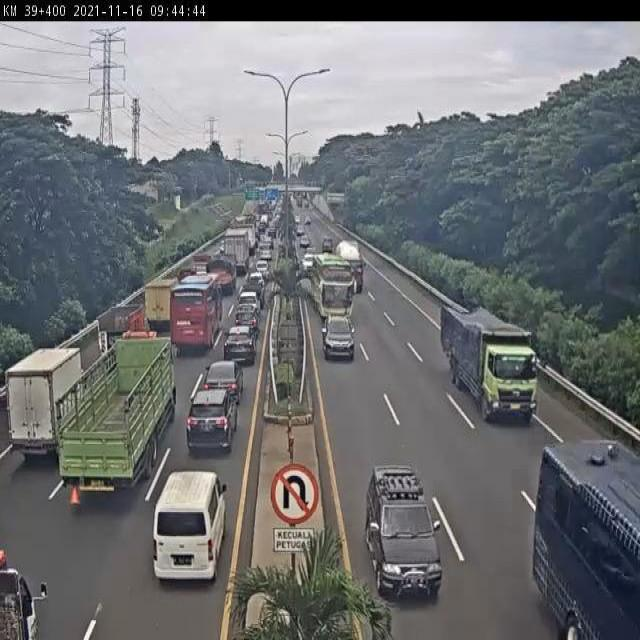big bus: (167, 272, 217, 352), (311, 258, 354, 322)
car: (365, 467, 442, 600), (188, 386, 236, 451), (204, 361, 245, 403), (321, 312, 355, 360), (221, 329, 253, 368), (232, 308, 259, 335), (236, 288, 261, 316)
small bus: (153, 471, 225, 581)
small truck: (143, 278, 177, 334)
truck-l-: (59, 340, 184, 497), (438, 301, 541, 419)
truck-m-: (1, 351, 82, 458), (95, 303, 150, 353), (198, 258, 234, 298)
